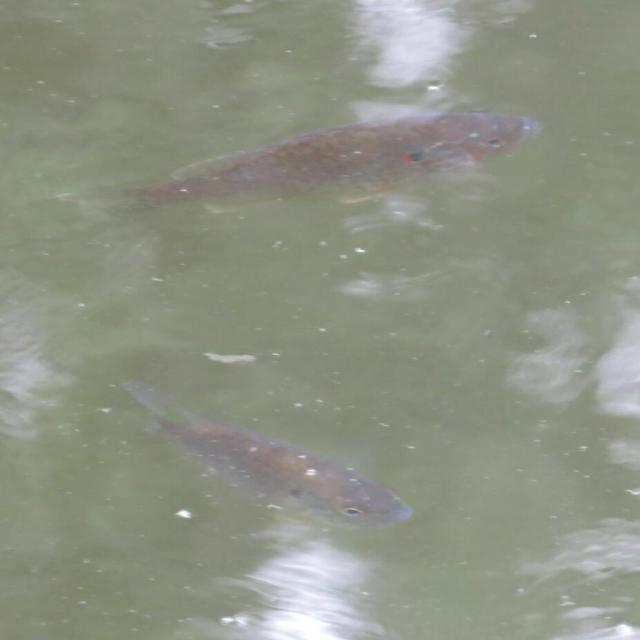Gunes Levregi: (53, 107, 541, 217), (117, 377, 414, 529)
